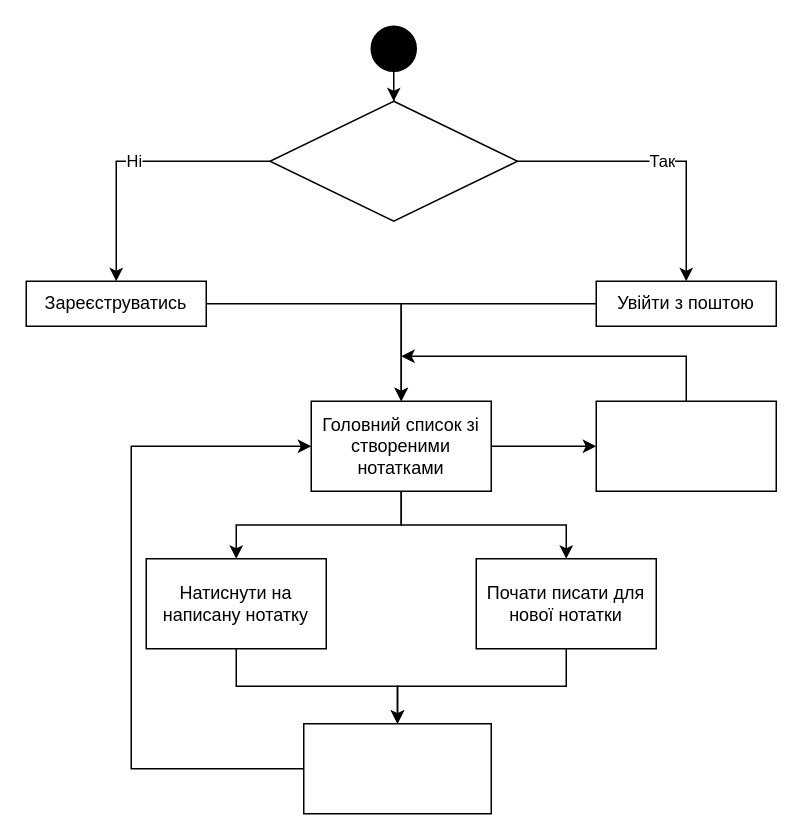
This 803x840 diagram has some shape labels left out. Each missing label, with the centre of its shape:
"Режим перегляду/редагування нотатки" goes at pixel 396 768.
"Сторінка налаштувань" goes at pixel 685 445.
"Є обліковий запис?" goes at pixel 393 160.
